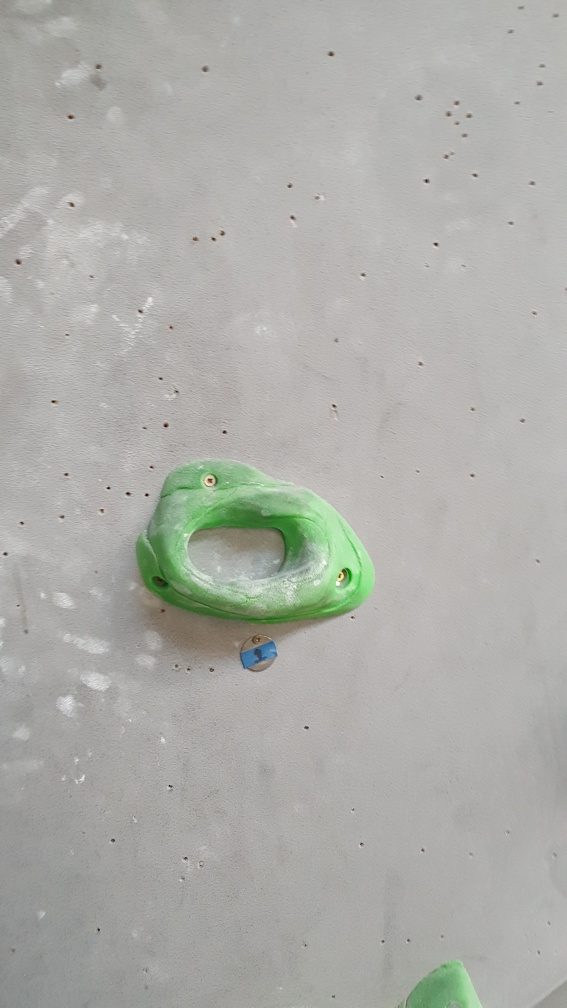Hand Start: (232, 630, 282, 678)
Pocket: (135, 457, 379, 625)
